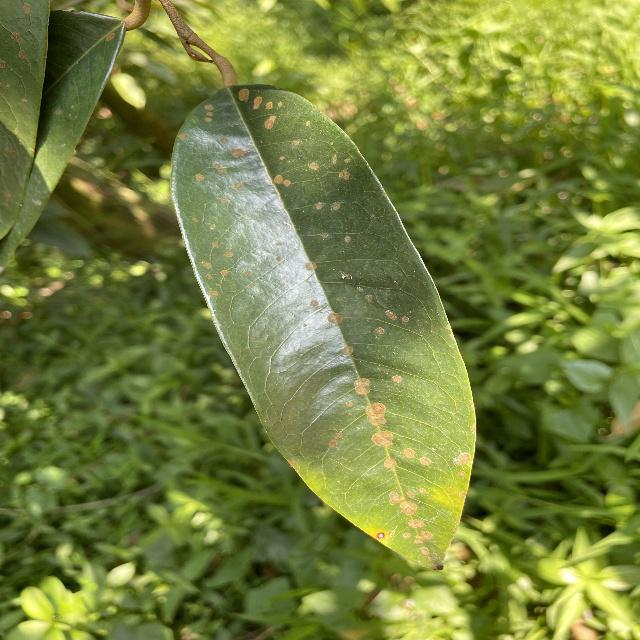Algal Leaf Spot: (161, 75, 481, 572)
